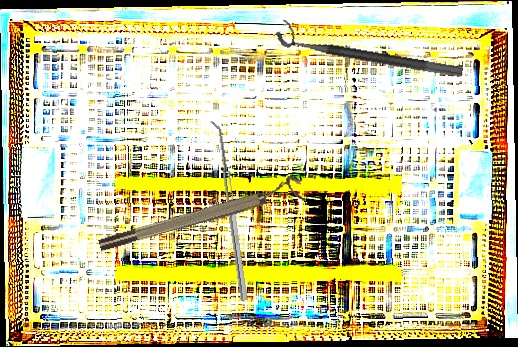Fixation Ring: (94, 173, 306, 255), (274, 18, 466, 79)
Spatula Surgical: (208, 119, 248, 303)
